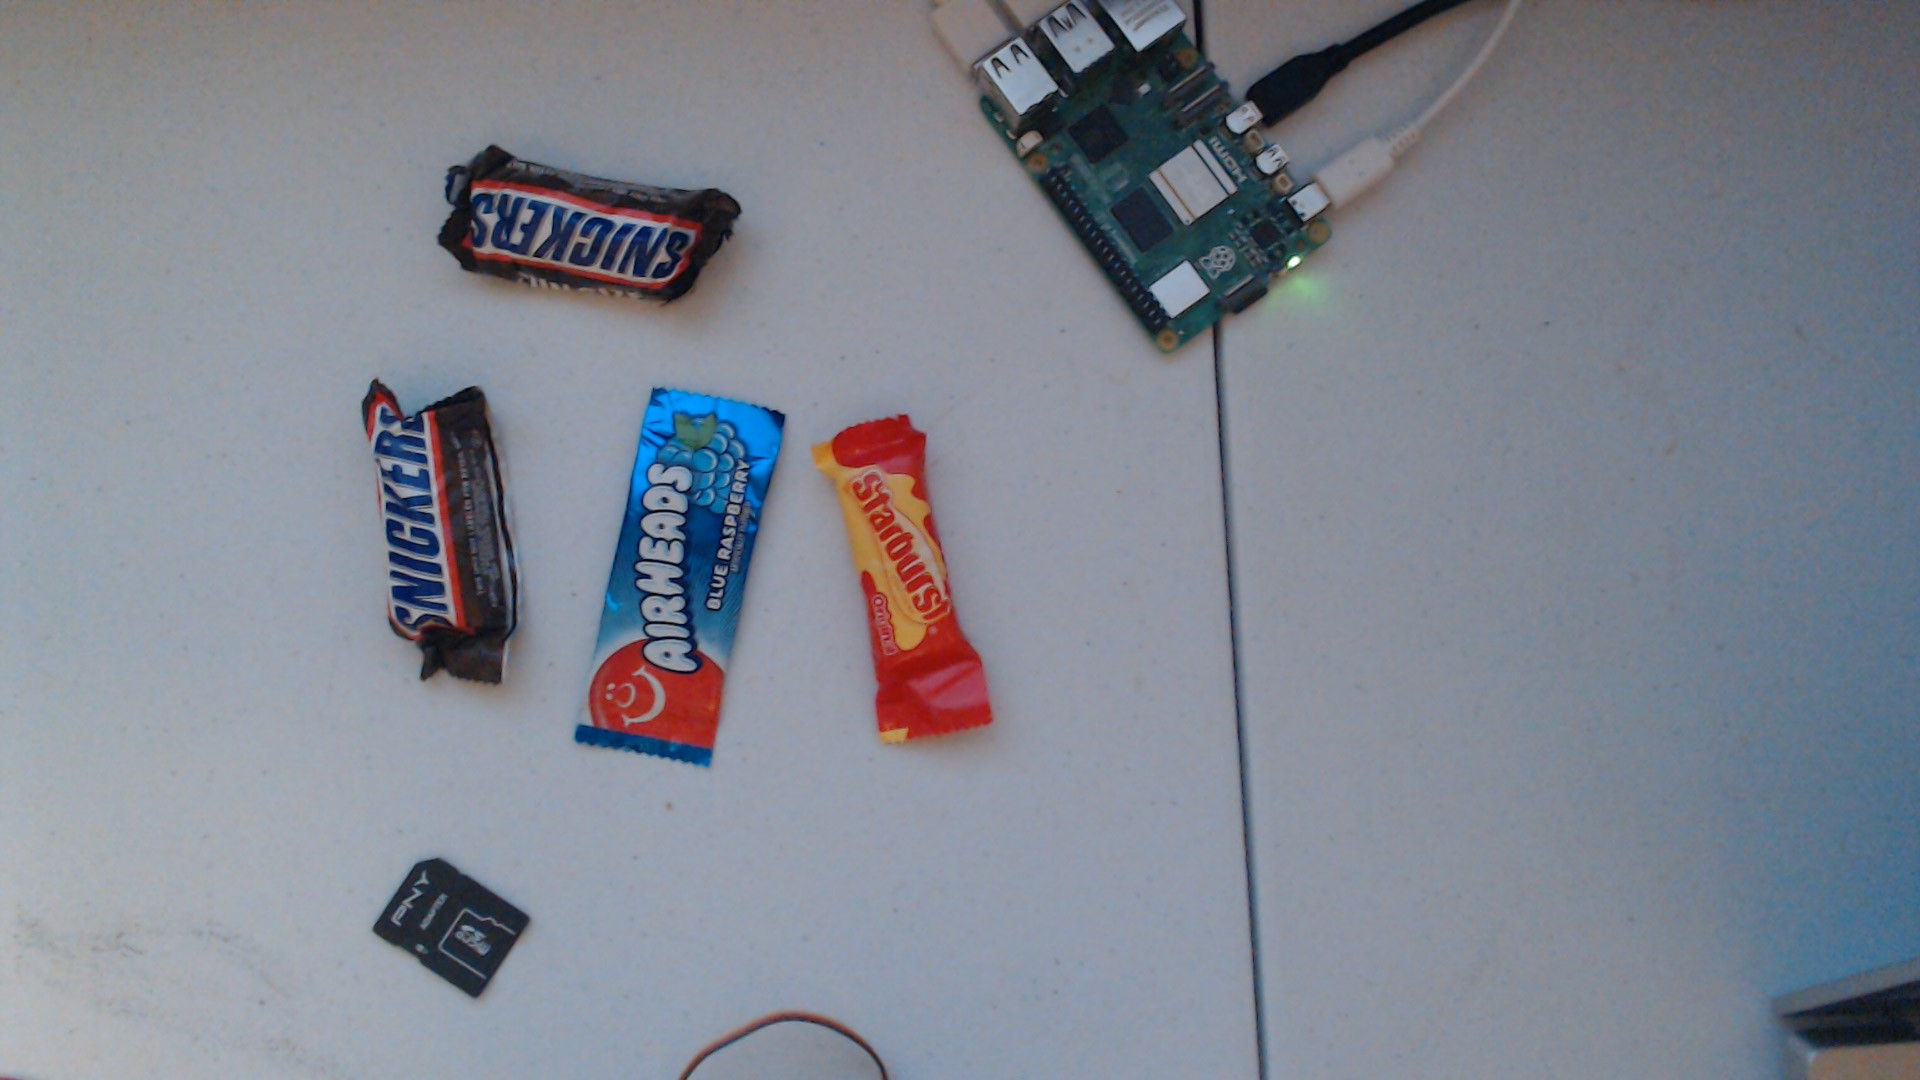airheads: (578, 353, 787, 825)
snickers: (336, 349, 546, 720), (406, 123, 752, 315)
starbust: (804, 401, 1023, 771)
